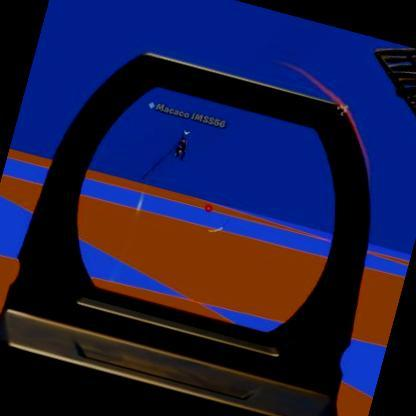person: (172, 134, 190, 165)
